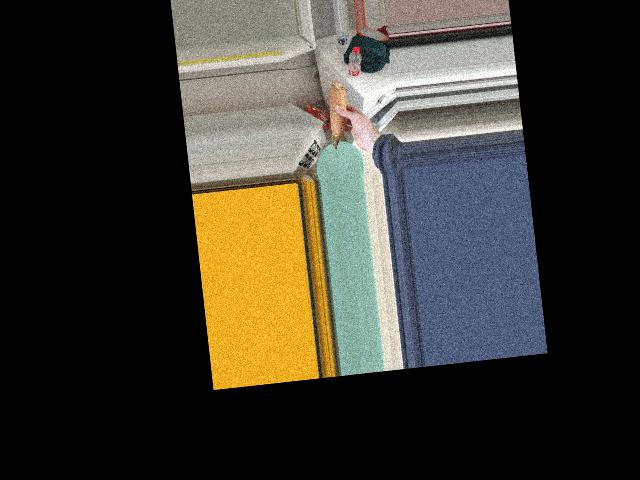sweet_potato: (320, 83, 352, 149)
